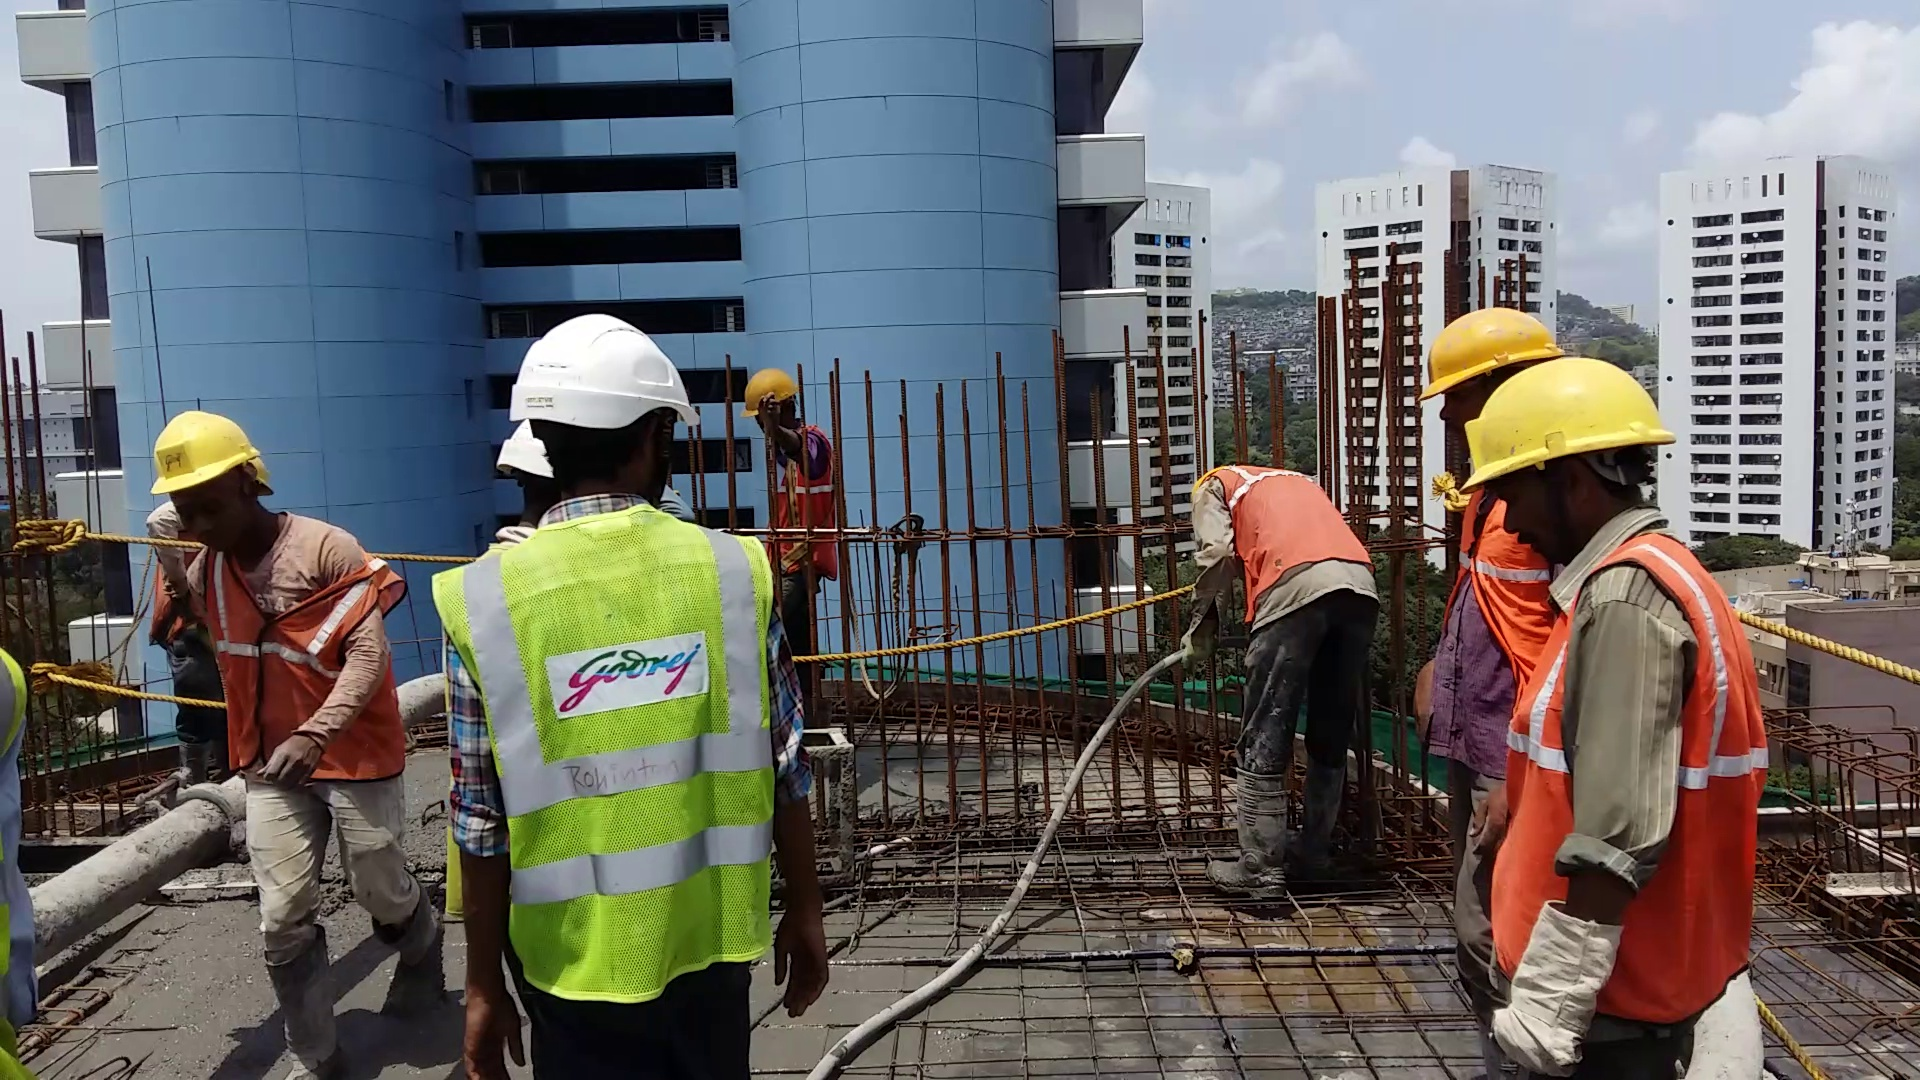SAFE: (1453, 347, 1764, 1009), (498, 313, 758, 996), (146, 409, 392, 785)
